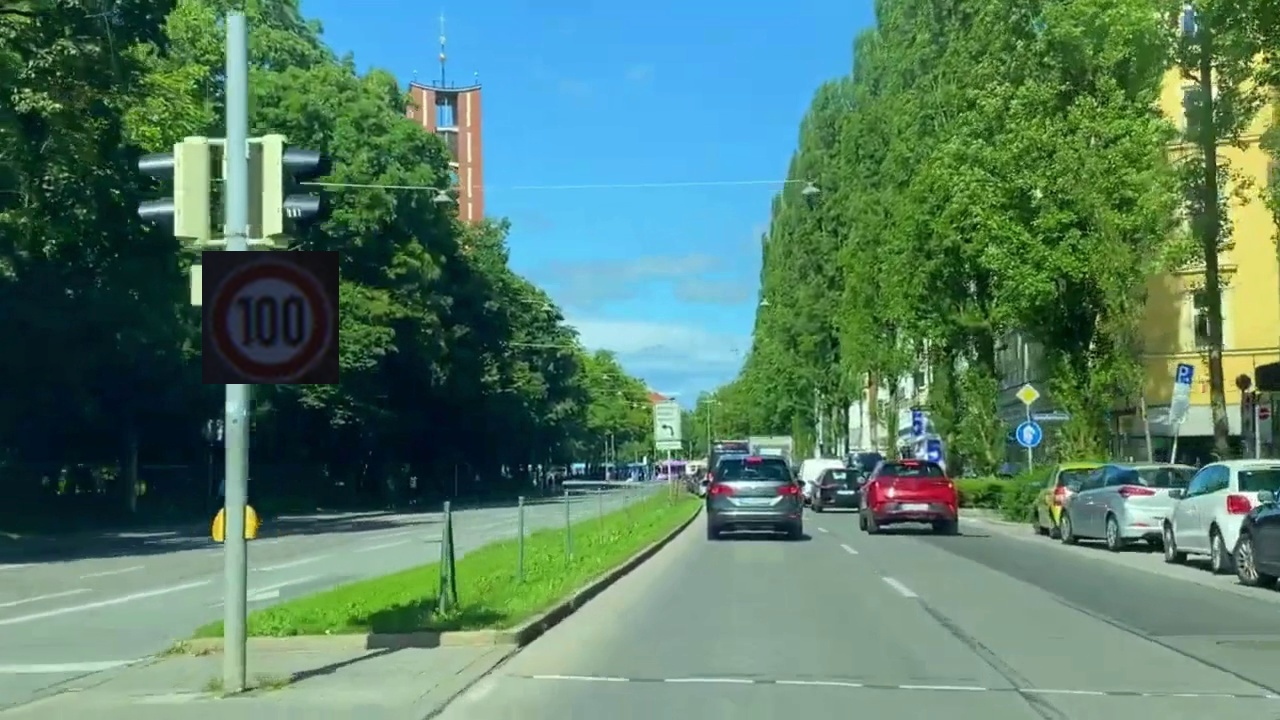Speed 100: (202, 251, 339, 384)
